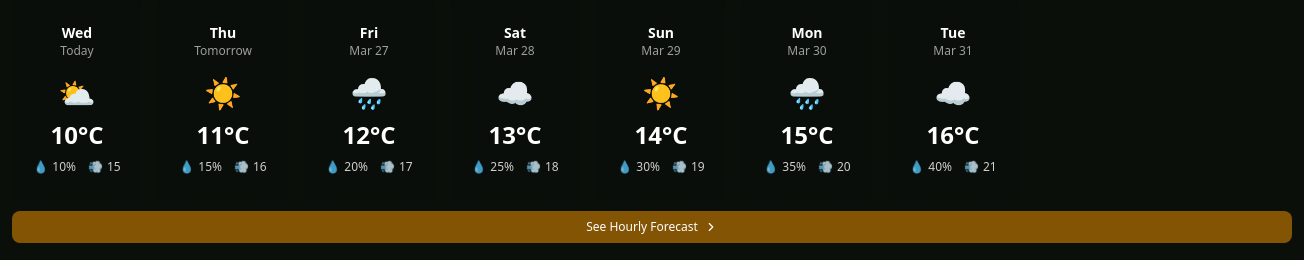
Test: WeatherForecast › expand/collapse functionality › shows fallback message when no hourly data available
Click the button with test id "forecast-expand-button": (652, 227) [12,211,1292,243]
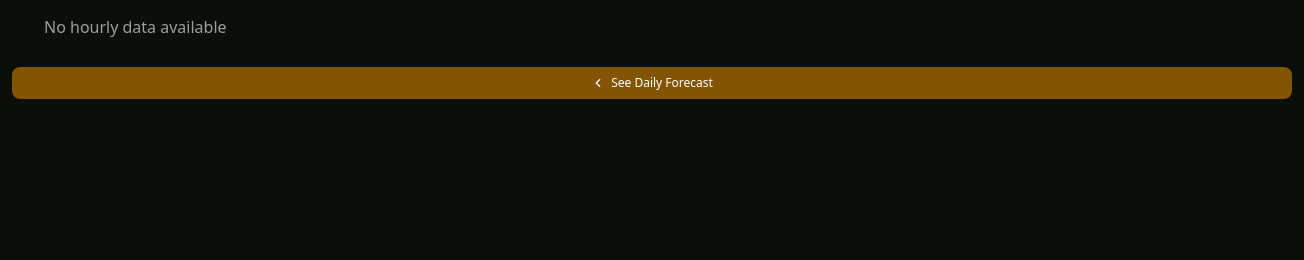
Now the text "No hourly data available" is shown, box [44,16,226,38]
